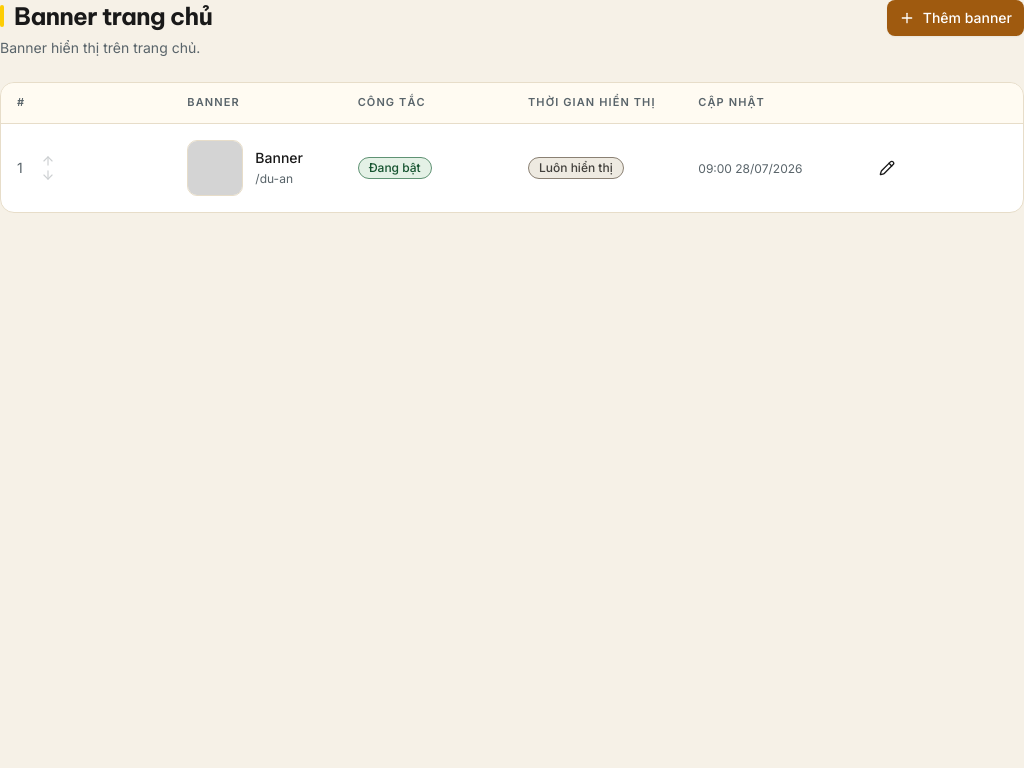
Test case: Form banner — phần “Thời gian hiển thị” › kiểm tại chỗ trước khi gọi API › từ == đến: hiện lỗi và KHÔNG gửi
The image size is (1024, 768).
Click the button named "Sửa banner" at [887, 168], box top-left (869, 152), bottom-right (905, 184)
(page scrolled)
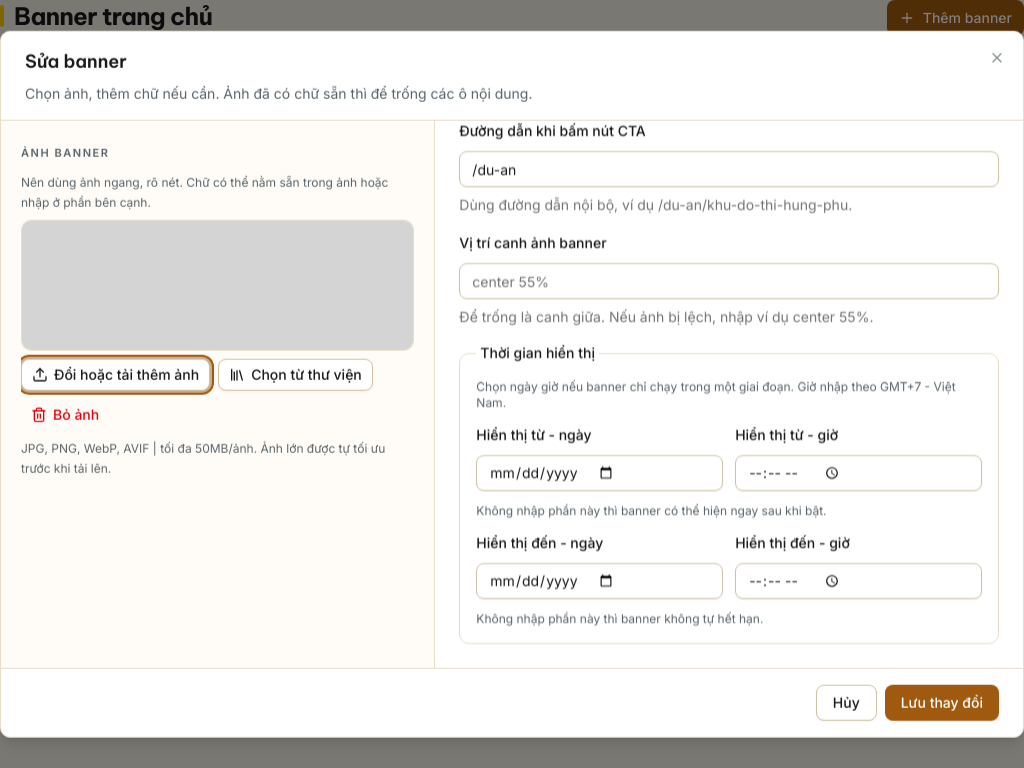
Type "2026-09-01" into the date field labelled "Hiển thị từ - ngày" at [600, 473], box top-left (476, 455), bottom-right (723, 491)
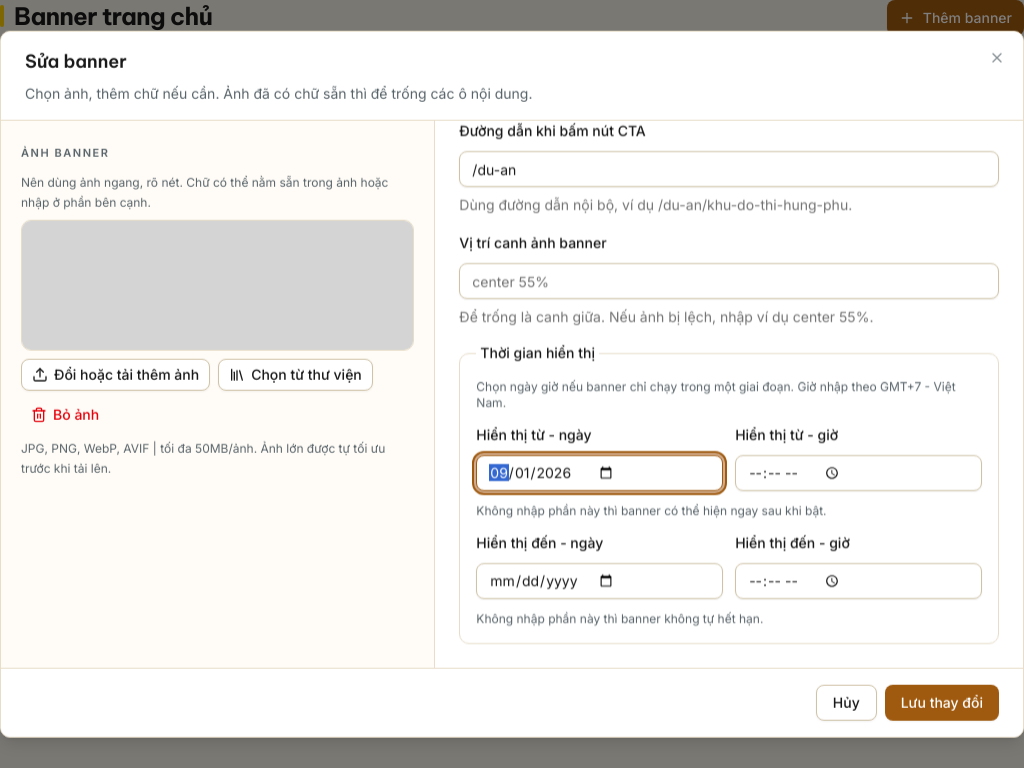
Type "08:00" into the time field labelled "Hiển thị từ - giờ" at [859, 473], box top-left (735, 455), bottom-right (982, 491)
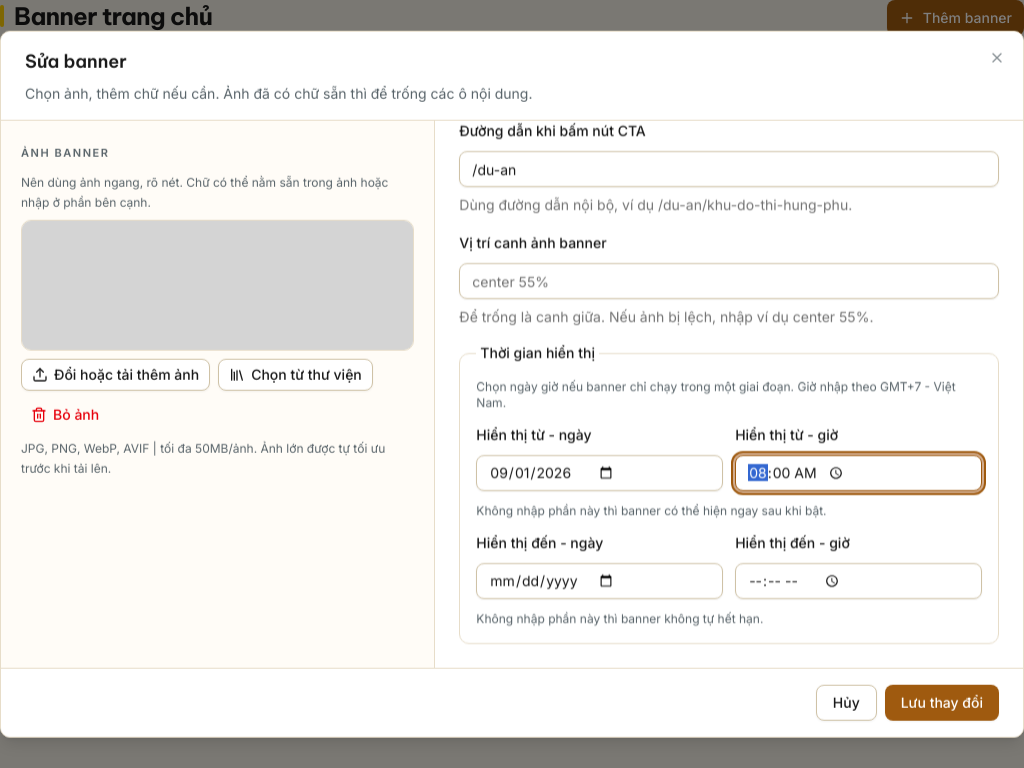
Type "2026-09-01" into the date field labelled "Hiển thị đến - ngày" at [600, 581], box top-left (476, 563), bottom-right (723, 599)
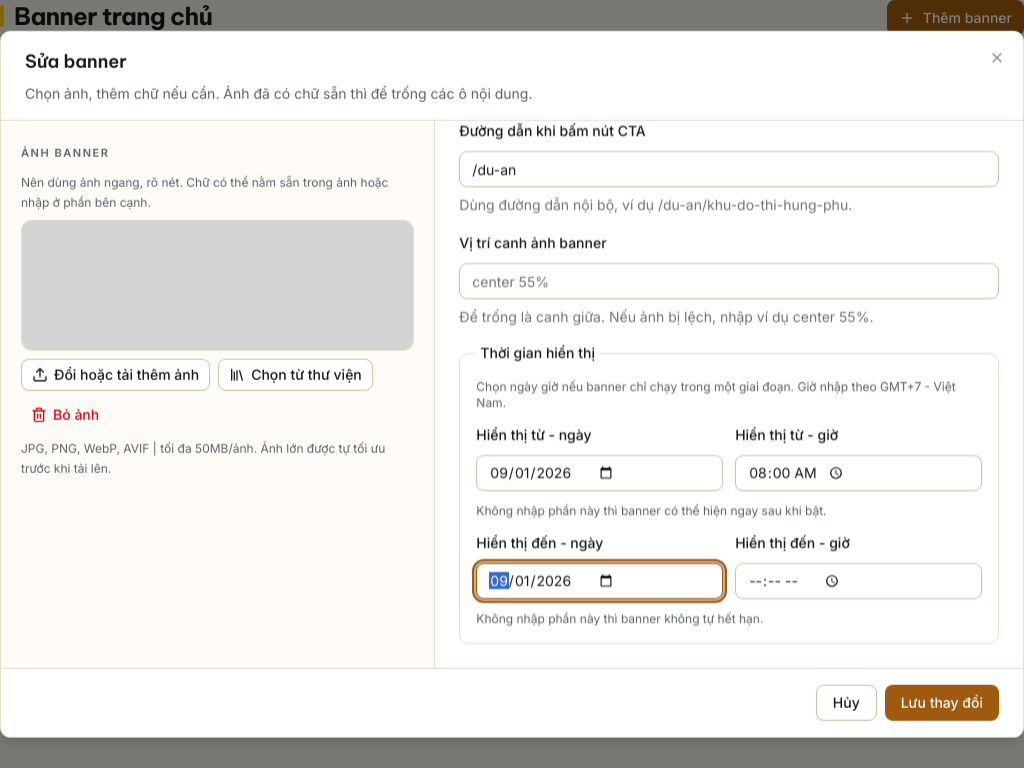
Type "08:00" into the time field labelled "Hiển thị đến - giờ" at [859, 581], box top-left (735, 563), bottom-right (982, 599)
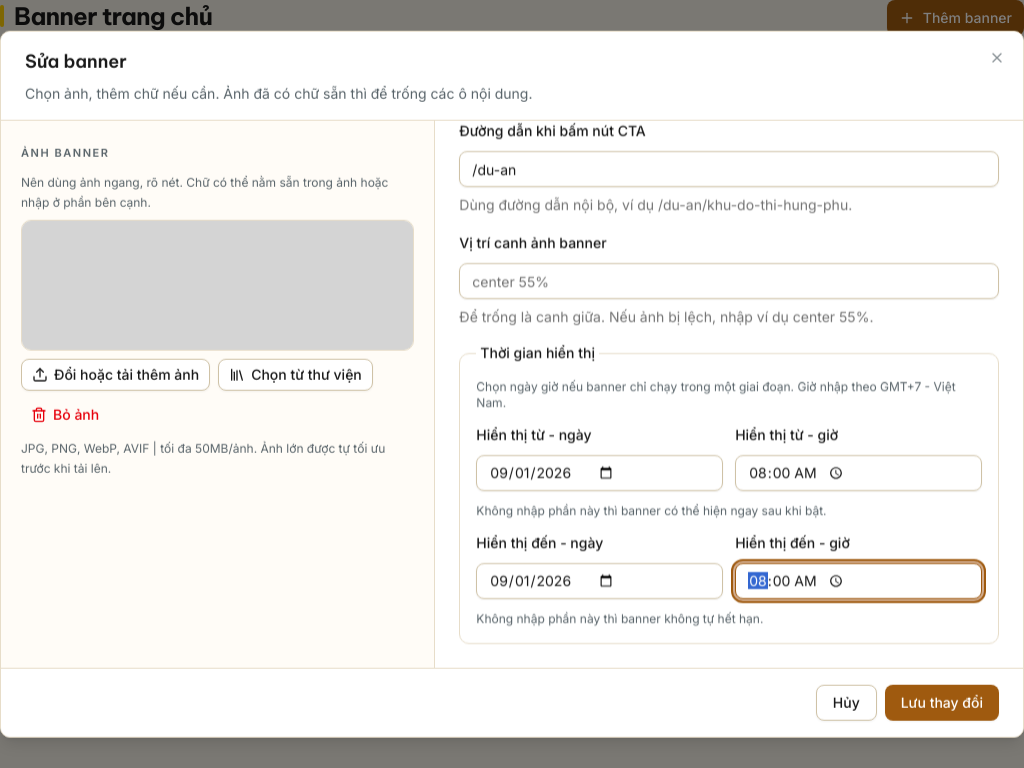
Click the button "Lưu thay đổi" at [942, 702], box top-left (885, 684), bottom-right (999, 720)
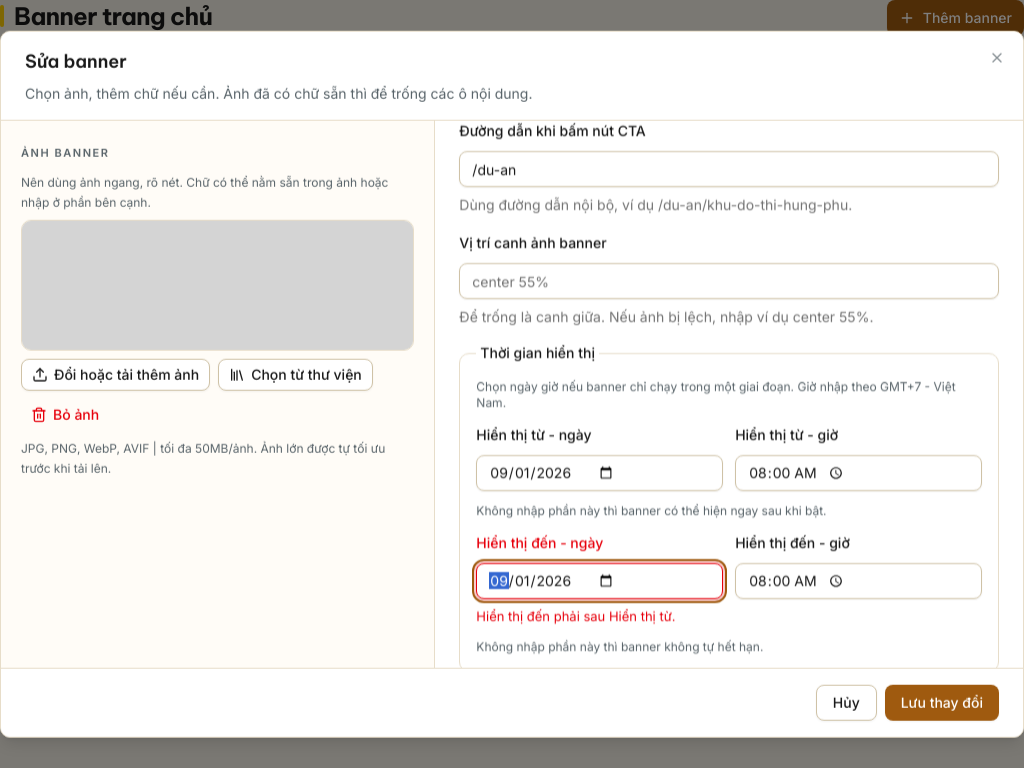
Check: the text "Hiển thị đến phải sau Hiển thị từ." is shown, box top-left (476, 608), bottom-right (675, 624)
